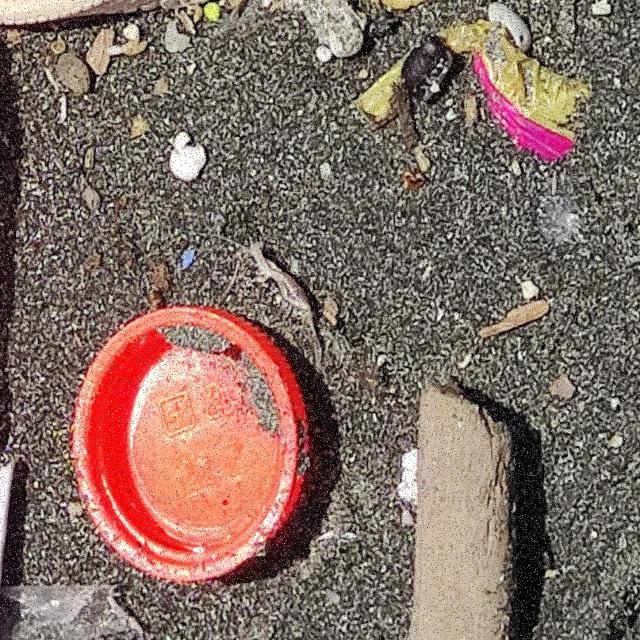plastic_waste: (74, 298, 323, 582), (351, 20, 595, 162)
